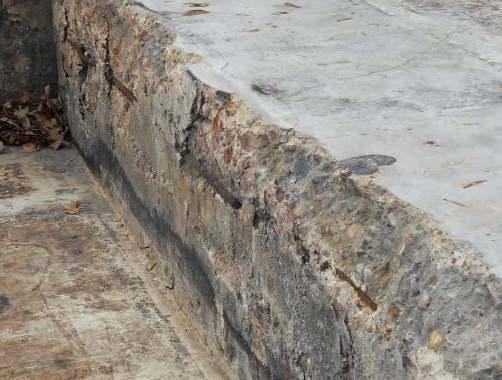spalling: (57, 0, 502, 380)
